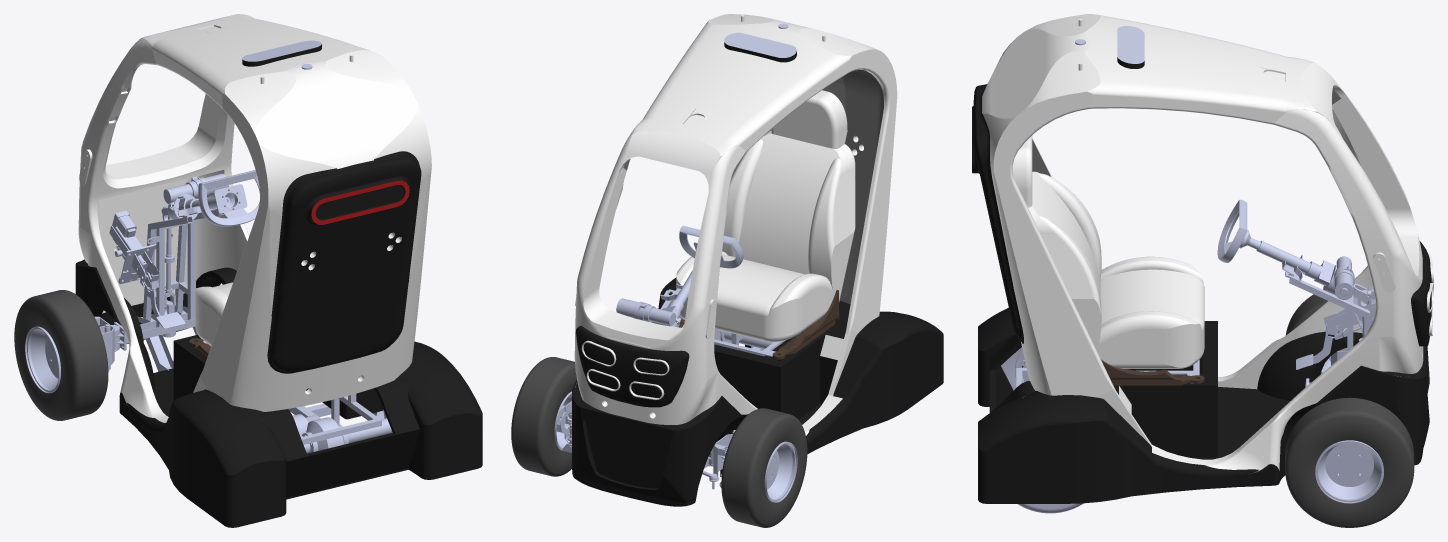
The model's file is mevi3d.obj.
3 views of the same model, side by side, from view 1: azimuth 30°, elevation 25°; view 2: azimuth 150°, elevation 25°; view 3: azimuth 270°, elevation 25° (orthographic). The views are drawn at different scales.
Parts seen in each view (by area): view 1: Solid79, Solid35, Solid1, Solid53, Solid34, Solid76, Solid66, Solid77, Solid4, Solid51, Solid52, Solid67 (+1 smaller); view 2: Solid79, Solid76, Solid35, Solid50, Solid34, Solid77, Solid52, Solid53, Solid1, Solid51; view 3: Solid79, Solid76, Solid50, Solid49, Solid51, Solid1, Solid77, Solid53, Solid52, Solid35, Solid66.
Boxes of the visible parts, x1,y1,x2,y2 form: Solid79: (75, 14, 482, 527); Solid35: (14, 290, 108, 420); Solid1: (115, 209, 384, 444); Solid53: (198, 170, 259, 226); Solid34: (25, 326, 60, 393); Solid76: (189, 282, 232, 360); Solid66: (109, 225, 159, 288); Solid77: (242, 40, 321, 66); Solid4: (293, 414, 346, 451); Solid51: (169, 190, 239, 219); Solid52: (163, 173, 228, 219); Solid67: (112, 210, 147, 268); Solid79: (572, 14, 943, 506); Solid76: (676, 90, 855, 359); Solid35: (721, 408, 807, 527); Solid50: (511, 357, 576, 476); Solid34: (764, 441, 797, 502); Solid77: (724, 32, 796, 62); Solid52: (616, 298, 680, 327); Solid53: (679, 225, 743, 268); Solid1: (660, 299, 785, 468); Solid51: (660, 270, 692, 325); Solid79: (972, 14, 1433, 503); Solid76: (1012, 135, 1204, 385); Solid50: (1285, 397, 1414, 527); Solid49: (1315, 440, 1383, 503); Solid51: (1239, 230, 1336, 290); Solid1: (1016, 272, 1372, 387); Solid77: (1117, 26, 1144, 68); Solid53: (1217, 199, 1247, 262); Solid52: (1326, 256, 1354, 299); Solid35: (1285, 294, 1327, 335); Solid66: (1323, 305, 1375, 334).
Bounding box in the file's own units: 1027 × 1523 × 1512.
